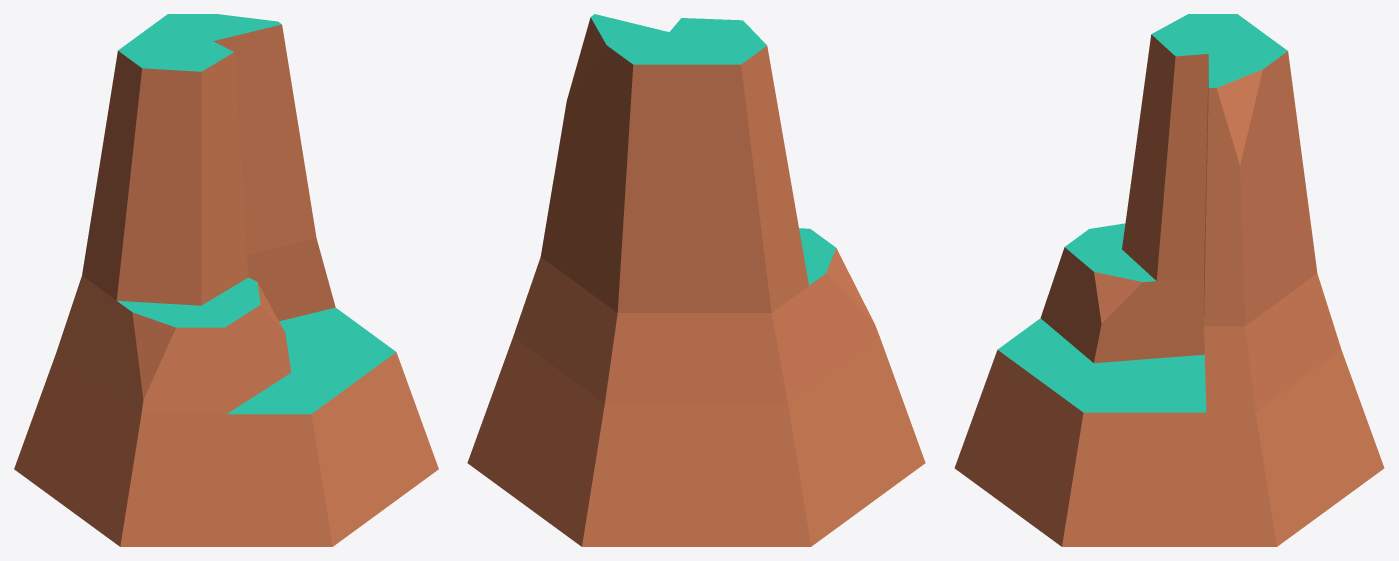
The model's file is rock_tallH.dae.
3 renders of one model, left to right at view 1: azimuth 30°, elevation 25°; view 2: azimuth 150°, elevation 25°; view 3: azimuth 270°, elevation 25°, orthographic. The views are drawn at different scales.
Parts seen in each view (by area): view 1: rock_tallH; view 2: rock_tallH; view 3: rock_tallH.
Boxes of the visible parts, <box> form: rock_tallH: <box>14,14,438,546</box>; rock_tallH: <box>467,14,925,546</box>; rock_tallH: <box>954,14,1384,546</box>.
Size of the model in its own units: 0.5749 by 0.7108 by 0.6639.
